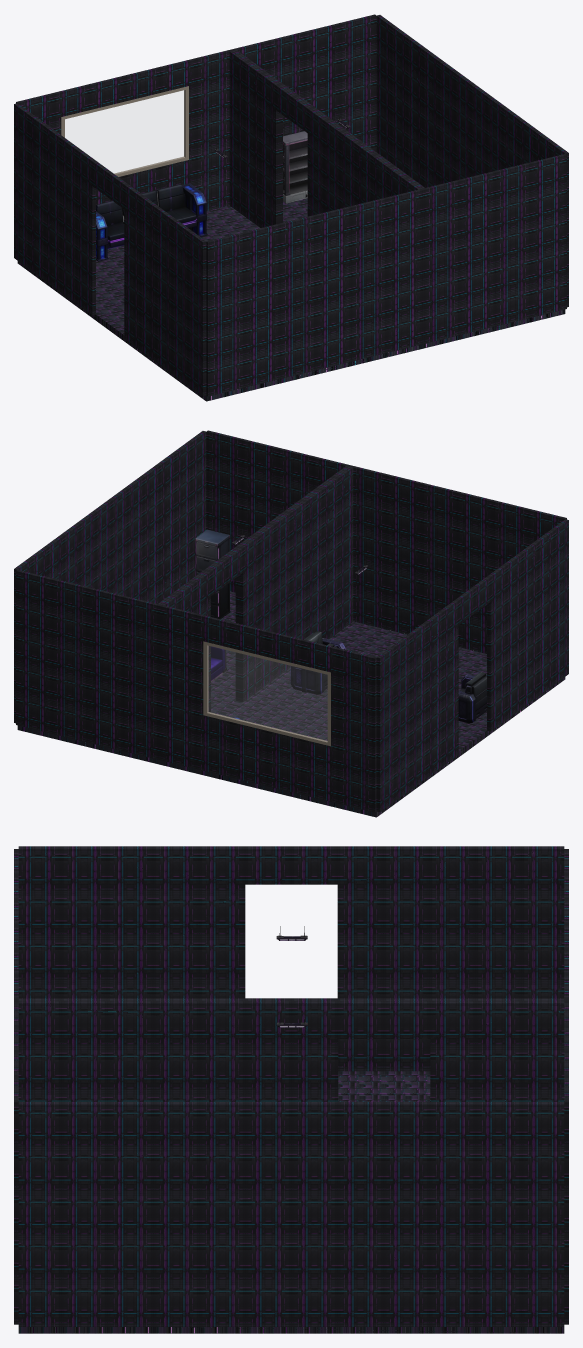
File: cyberpunk-records.glb
The picture shows the model from 3 angles, top to bottom: view 1: azimuth 30°, elevation 25°; view 2: azimuth 150°, elevation 25°; view 3: azimuth 270°, elevation 25°; orthographic projection. The views are drawn at different scales.
Parts seen in each view (by area): view 1: geometry_0.009, geometry_0.008, geometry_0.001, geometry_0.002, geometry_0.004, geometry_0.007, geometry_0.003, glass, geometry_0.005, geometry_0.012, geometry_0.006, frame (+2 smaller); view 2: geometry_0.008, geometry_0.007, geometry_0.003, geometry_0.009, geometry_0.004, geometry_0.002, geometry_0.001, geometry_0.005, glass, geometry_0, frame, geometry_0.010 (+3 smaller); view 3: geometry_0.002, geometry_0.008, geometry_0.011, geometry_0, geometry_0.005, geometry_0.004, geometry_0.001, geometry_0.003, geometry_0.007, geometry_0.009.
Boxes of the visible parts, box(x1,y1,x2,y2) form: geometry_0.009: box(206, 189, 423, 396); geometry_0.008: box(14, 103, 206, 395); geometry_0.001: box(422, 154, 566, 343); geometry_0.002: box(376, 15, 568, 307); geometry_0.004: box(229, 50, 421, 227); geometry_0.007: box(16, 49, 232, 210); geometry_0.003: box(232, 14, 376, 151); glass: box(65, 90, 184, 173); geometry_0.005: box(17, 205, 421, 401); geometry_0.012: box(96, 183, 207, 261); geometry_0.006: box(283, 131, 307, 203); frame: box(61, 86, 188, 176); geometry_0.008: box(376, 519, 568, 811); geometry_0.007: box(159, 605, 376, 812); geometry_0.003: box(16, 570, 160, 759); geometry_0.009: box(350, 465, 566, 653); geometry_0.004: box(161, 466, 353, 712); geometry_0.002: box(14, 431, 206, 723); geometry_0.001: box(206, 430, 350, 592); geometry_0.005: box(161, 621, 565, 817); glass: box(208, 646, 327, 741); geometry_0: box(17, 591, 238, 764); frame: box(203, 641, 330, 746); geometry_0.010: box(195, 529, 230, 619); geometry_0.002: box(18, 1102, 564, 1326); geometry_0.008: box(18, 846, 564, 1071); geometry_0.011: box(18, 1001, 564, 1101); geometry_0: box(18, 1327, 564, 1333); geometry_0.005: box(338, 1071, 430, 1101); geometry_0.004: box(18, 998, 564, 1000); geometry_0.001: box(14, 1001, 18, 1324); geometry_0.003: box(564, 1001, 568, 1324); geometry_0.007: box(564, 849, 568, 1000); geometry_0.009: box(14, 849, 18, 1000).
Size of the model in its own units: 6.97 by 2.91 by 6.33.
Materials: 10 (8 with a texture image).
